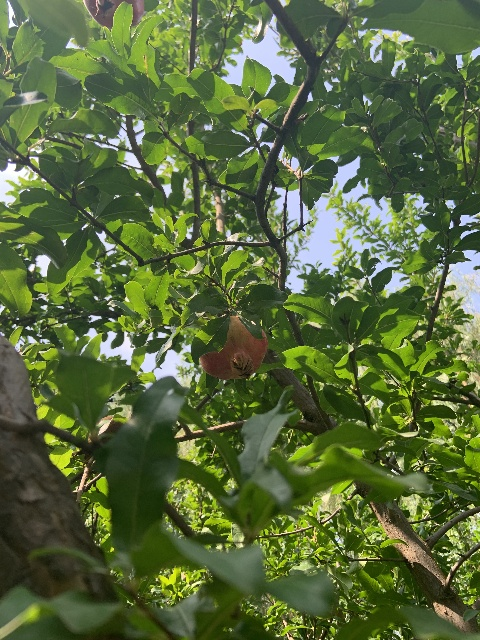ripe: (200, 314, 268, 380)
